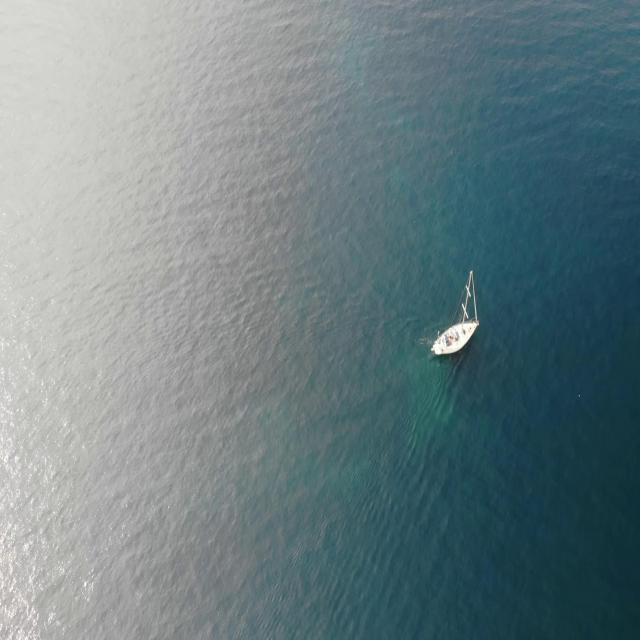sailboat: (428, 268, 479, 358)
